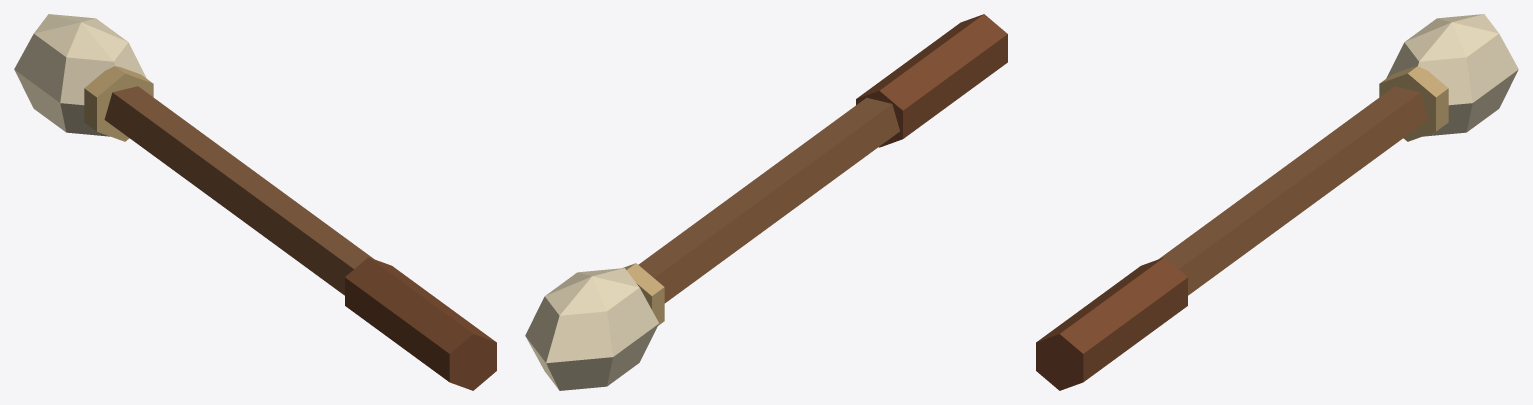
The model's file is prop_stick.glb.
3 renders of one model, left to right at view 1: azimuth 30°, elevation 25°; view 2: azimuth 150°, elevation 25°; view 3: azimuth 330°, elevation 25°, orthographic.
Visible parts, largest first — view 1: prop_stick; view 2: prop_stick; view 3: prop_stick.
Part boxes in pixels (x1,y1,x2,y2): prop_stick: (14, 14, 496, 390); prop_stick: (525, 14, 1007, 390); prop_stick: (1036, 14, 1518, 390).
Size of the model in its own units: 0.0242 by 0.028 by 0.209.
Materials: 1 (1 with a texture image).
